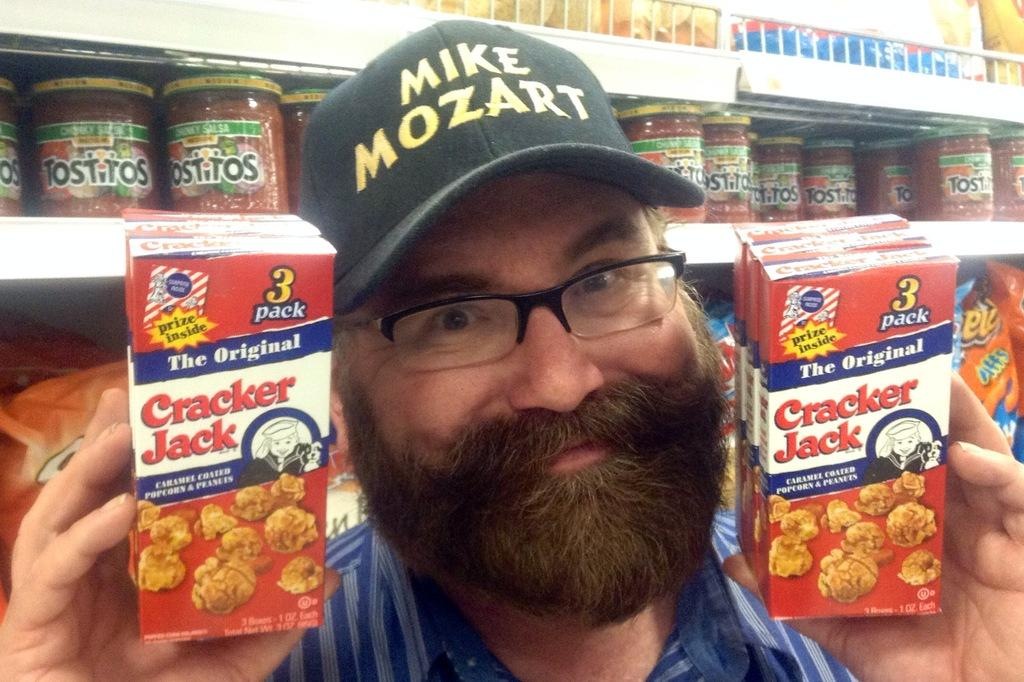Hat: (297, 18, 705, 312)
